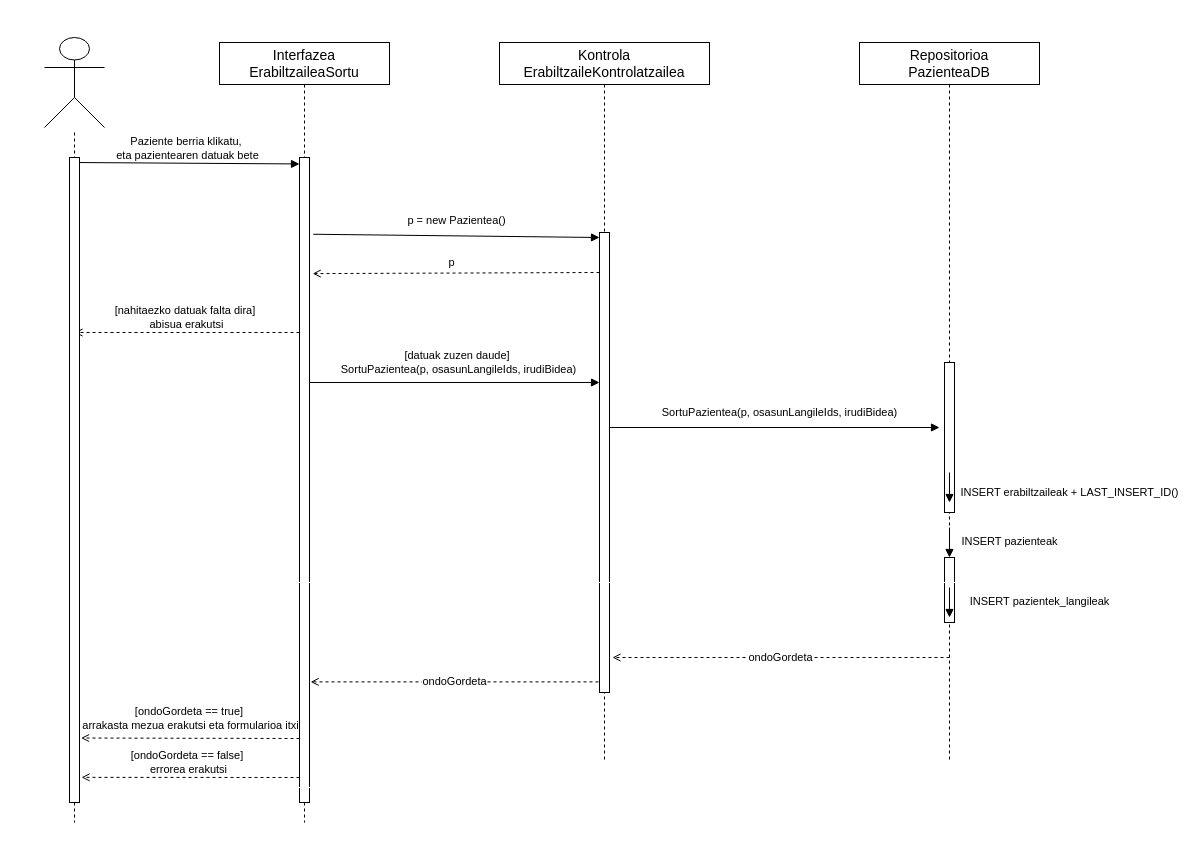
Some shapes in this 1196 by 841 pixel diagram are drawn without their labels. Each missing label, with the centre of its shape:
"Harrerako langilea" belongs at [74,82].
"loop [hautatutako langile bakoitzeko]" belongs at [589,685].
